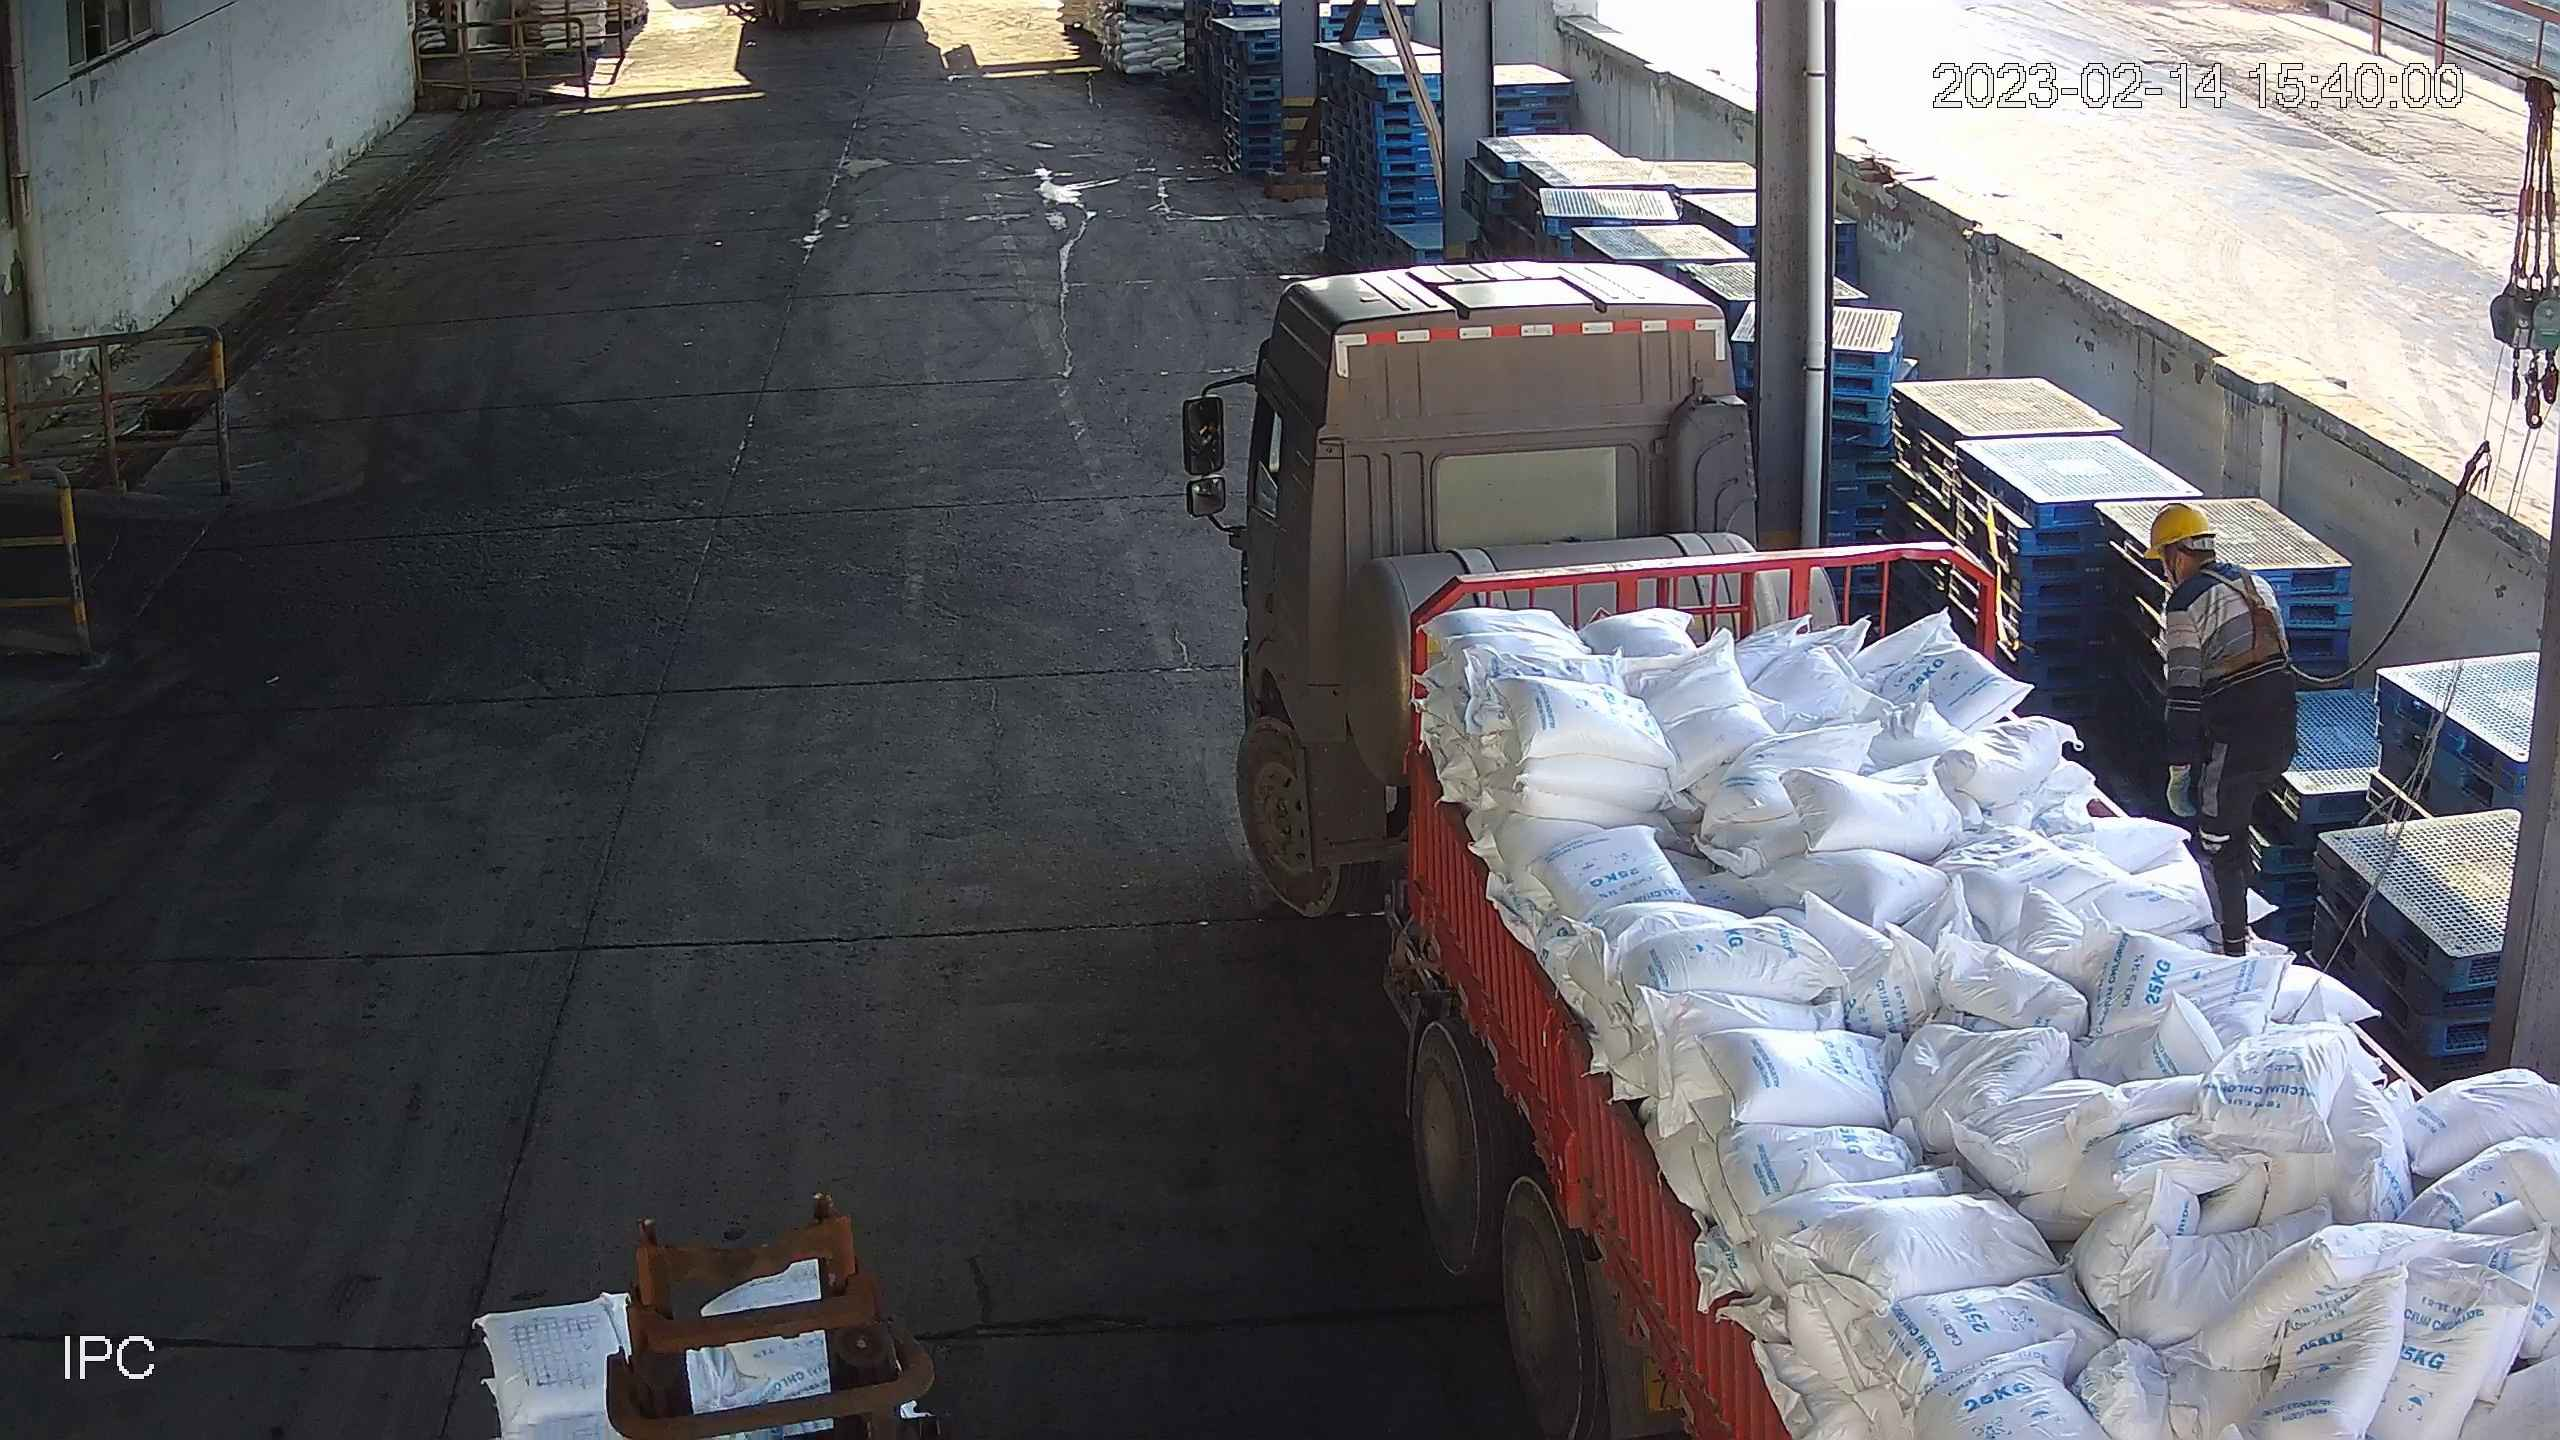belt: (2199, 565, 2307, 674)
head: (2148, 502, 2269, 601)
helmet: (2139, 495, 2218, 557)
people: (2139, 497, 2309, 964)
truck: (1179, 262, 2560, 1440)
